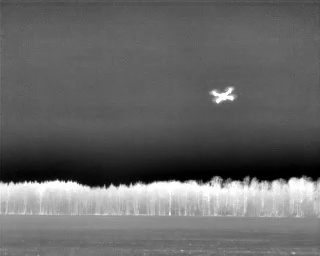DRONE: (206, 83, 241, 109)
